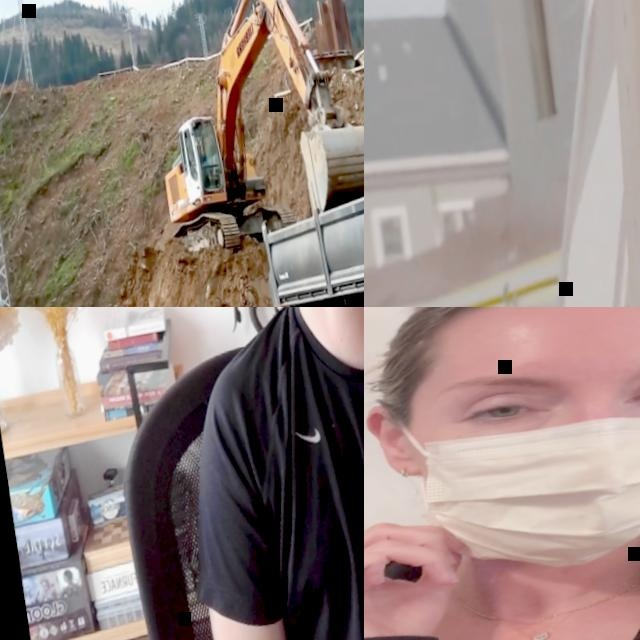Mask: (405, 344, 640, 574)
NO-Hardhat: (391, 307, 640, 361)
NO-Safety Vest: (225, 307, 364, 640), (364, 516, 640, 640)
Person: (364, 307, 640, 640), (117, 307, 364, 640), (190, 146, 208, 186)
machinery: (131, 0, 364, 261), (247, 115, 364, 307)
